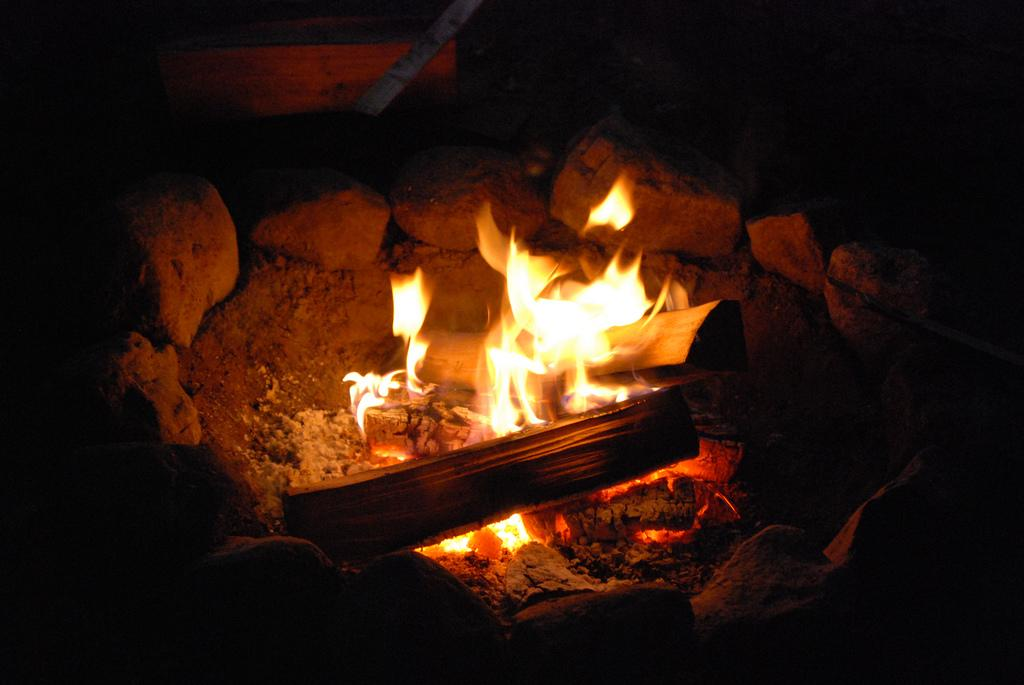fire: (520, 260, 648, 347), (387, 280, 423, 340)
